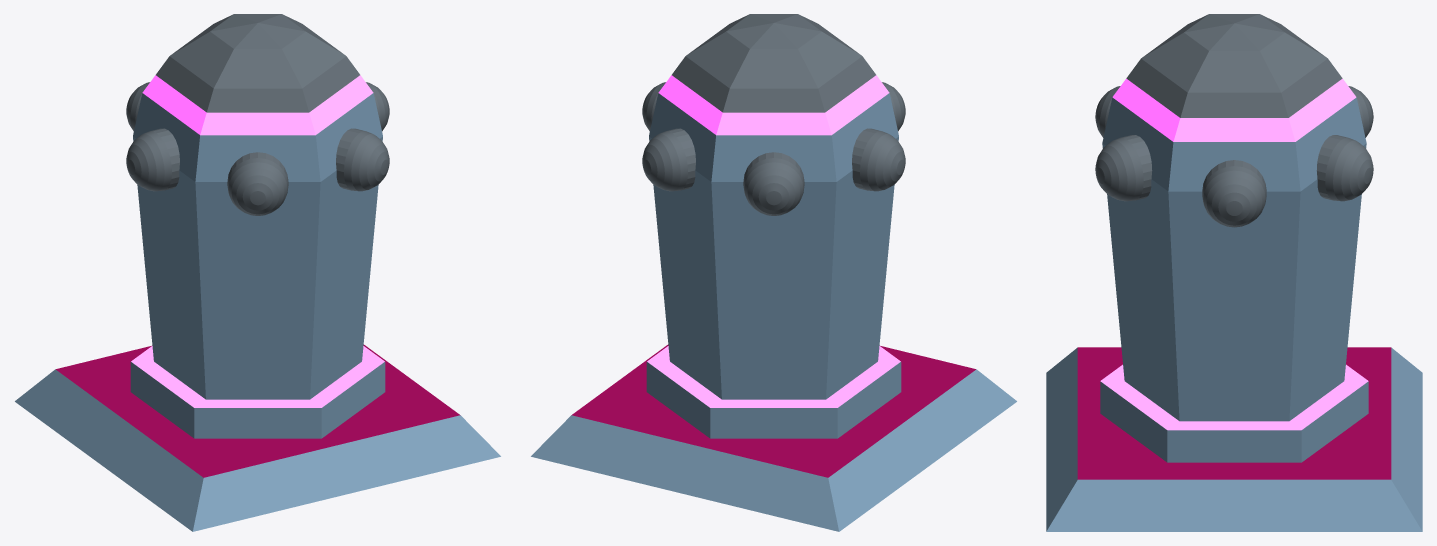
File: Waall_4.fbx
The picture shows the model from 3 angles, left to right: view 1: azimuth 30°, elevation 25°; view 2: azimuth 150°, elevation 25°; view 3: azimuth 270°, elevation 25°; orthographic projection. The views are drawn at different scales.
Parts seen in each view (by area): view 1: waal_solid_4; view 2: waal_solid_4; view 3: waal_solid_4.
Boxes of the visible parts, x1,y1,x2,y2 form: waal_solid_4: (15, 14, 500, 531); waal_solid_4: (531, 14, 1016, 531); waal_solid_4: (1046, 14, 1422, 531).
Bounding box in the file's own units: 39.36 × 49.48 × 39.36.
